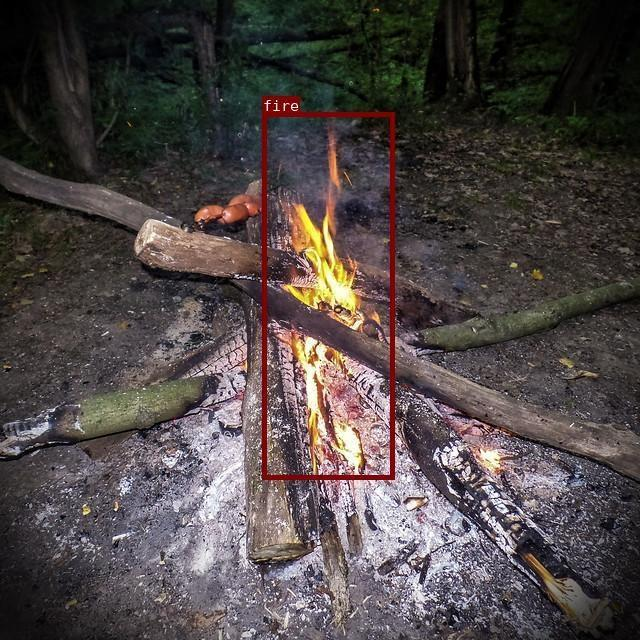fire: (262, 111, 394, 479)
